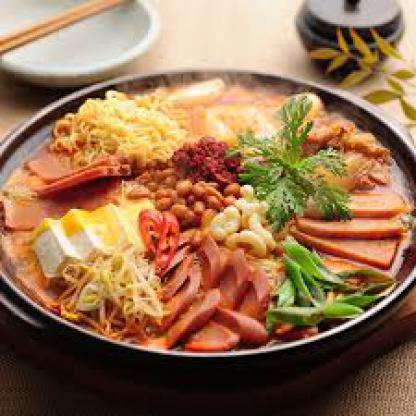budaejjigae: (4, 70, 414, 361)
